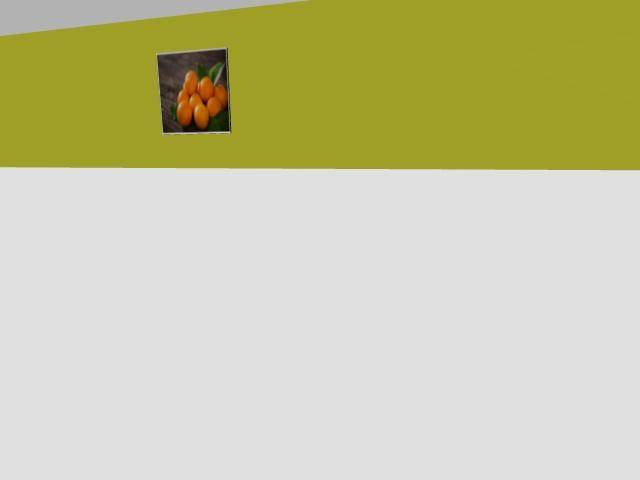orange: (176, 100, 192, 126), (198, 77, 213, 102), (194, 104, 208, 129), (214, 84, 227, 108), (206, 97, 221, 117), (184, 71, 197, 94), (189, 93, 202, 108), (177, 89, 188, 103), (182, 81, 190, 100), (182, 80, 187, 92)
